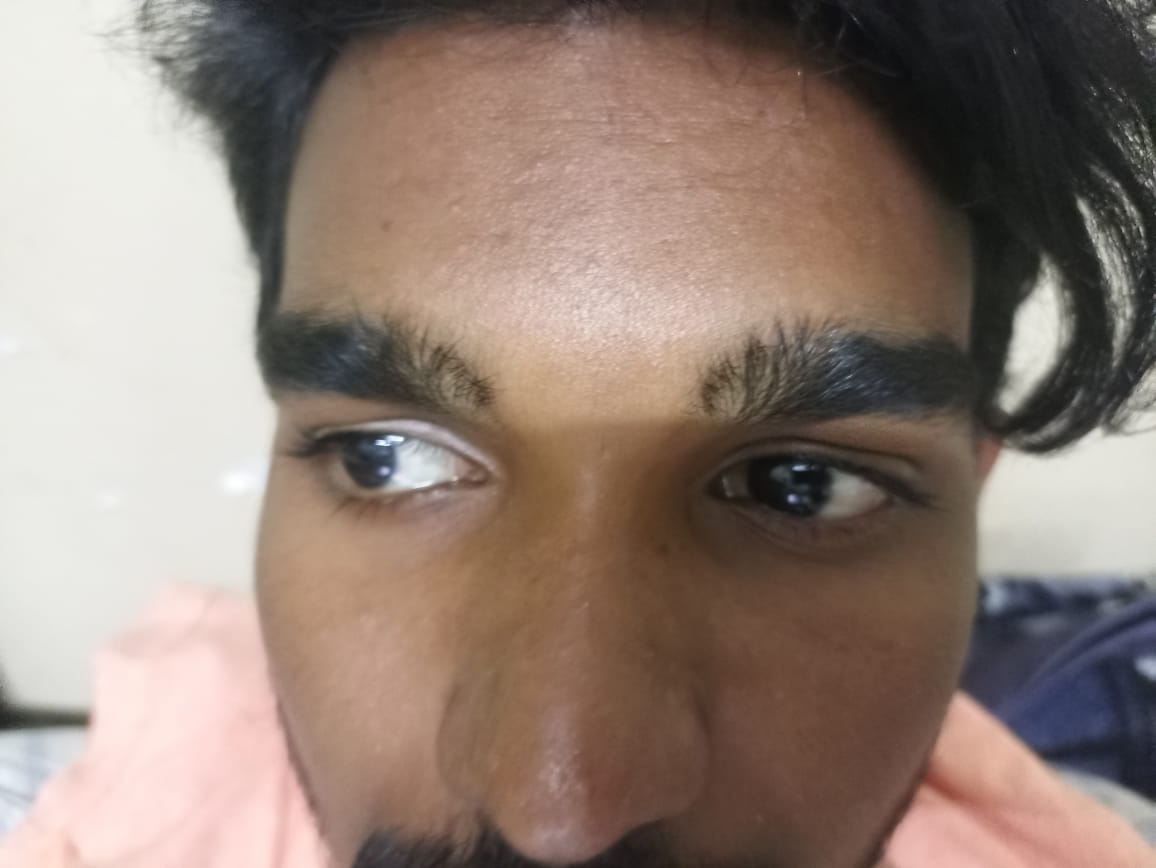EYE RIGHT: (644, 286, 936, 631), (170, 285, 504, 580)
